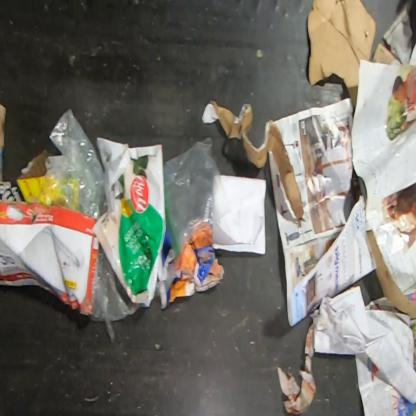cardboard: (201, 100, 304, 228), (0, 199, 100, 317), (306, 0, 406, 110), (365, 228, 416, 321), (0, 148, 56, 203), (0, 103, 7, 182)
soft_plastic: (92, 137, 167, 308), (164, 136, 235, 262), (33, 108, 109, 220), (89, 242, 144, 344)
